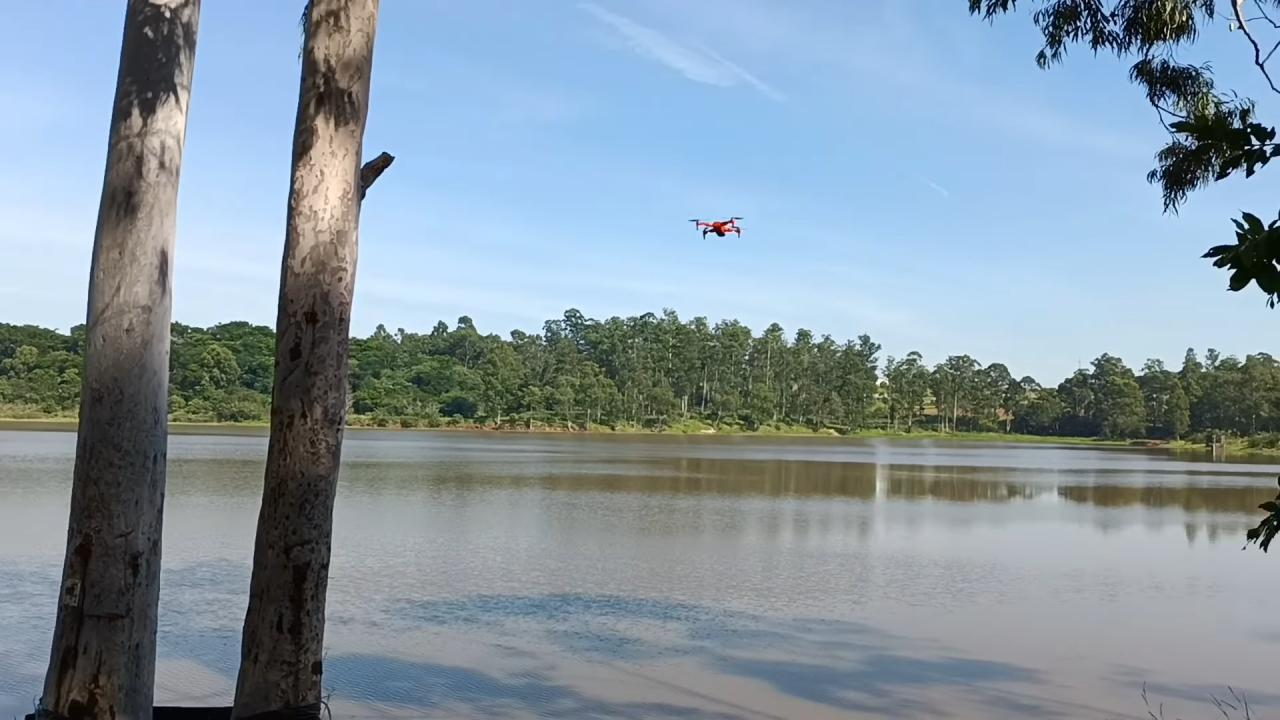Drone: (682, 207, 754, 246)
